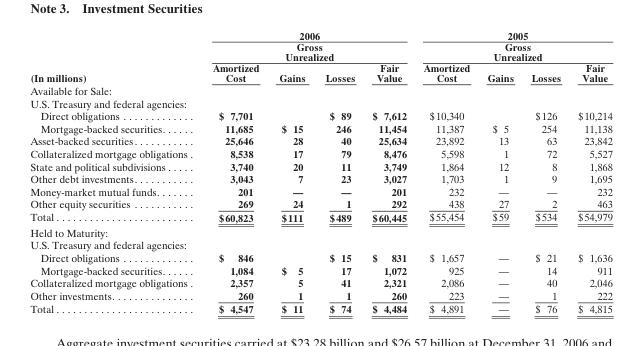table: (29, 28, 611, 314)
table column: (29, 28, 199, 314), (199, 28, 268, 314), (414, 28, 477, 314), (363, 28, 414, 314), (314, 28, 363, 314), (521, 28, 568, 314), (268, 28, 314, 314), (477, 28, 521, 314), (568, 28, 611, 314)
table column header: (29, 28, 611, 83)
table projected row header: (29, 224, 611, 238), (29, 83, 611, 96), (29, 96, 611, 109), (29, 238, 611, 251)
table row: (29, 28, 611, 61), (29, 61, 611, 83), (29, 210, 611, 224), (29, 224, 611, 238), (29, 83, 611, 96), (29, 96, 611, 109), (29, 121, 611, 134), (29, 146, 611, 159), (29, 159, 611, 172), (29, 184, 611, 197), (29, 197, 611, 210), (29, 238, 611, 251), (29, 263, 611, 276), (29, 288, 611, 301), (29, 301, 611, 314), (29, 109, 611, 121), (29, 134, 611, 146), (29, 172, 611, 184), (29, 251, 611, 263), (29, 276, 611, 288)
table spanning cell: (29, 28, 199, 83), (199, 28, 414, 61), (414, 28, 611, 61)
